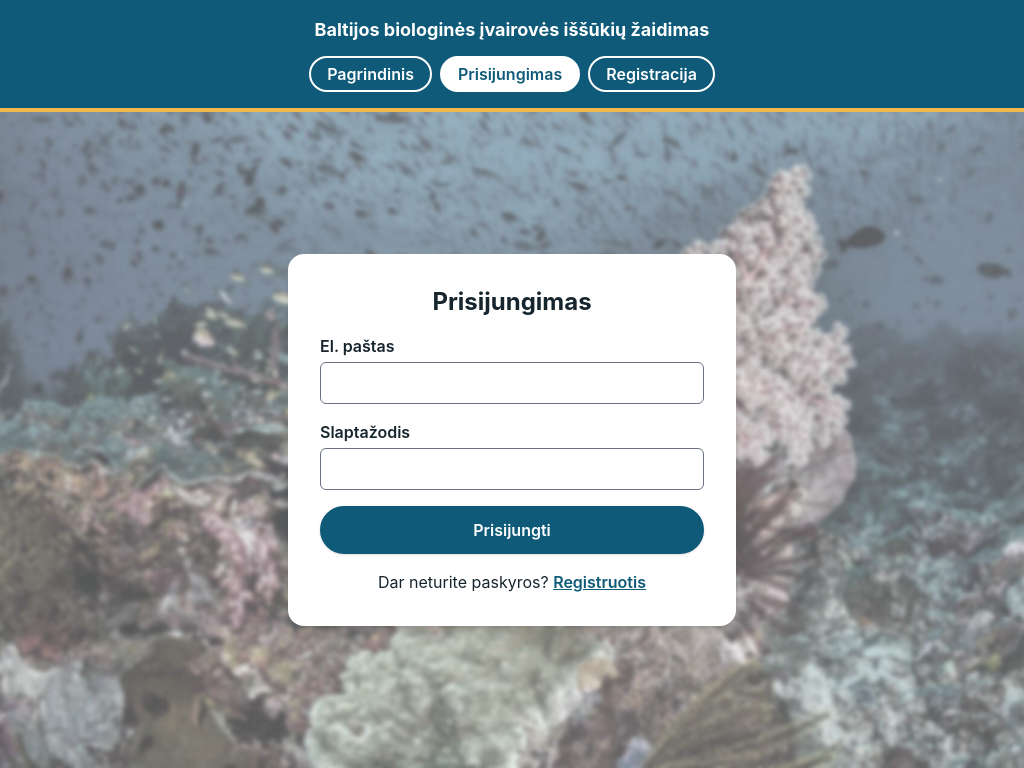
Test case: LoginPage › shows generic login failure message for server or network failure
The image size is (1024, 768).
In the field labelled "El. paštas": (512, 383) [320, 362, 704, 404], type "user@example.com"
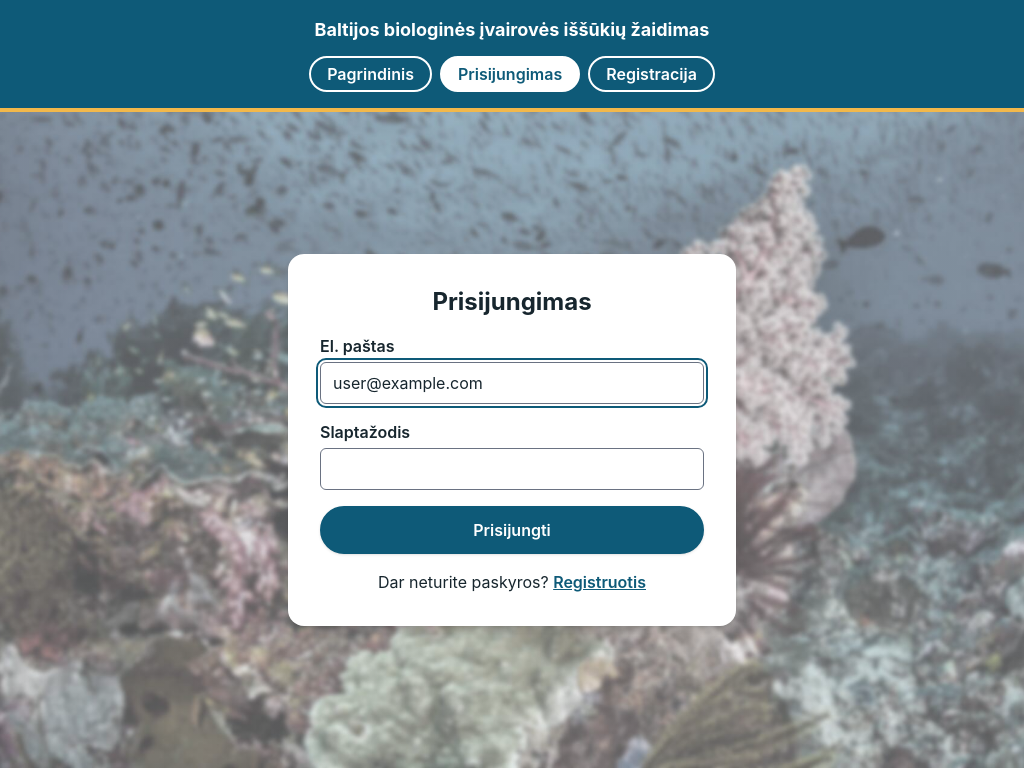
In the password field labelled "Slaptažodis": (512, 469) [320, 448, 704, 490], type "secret123"
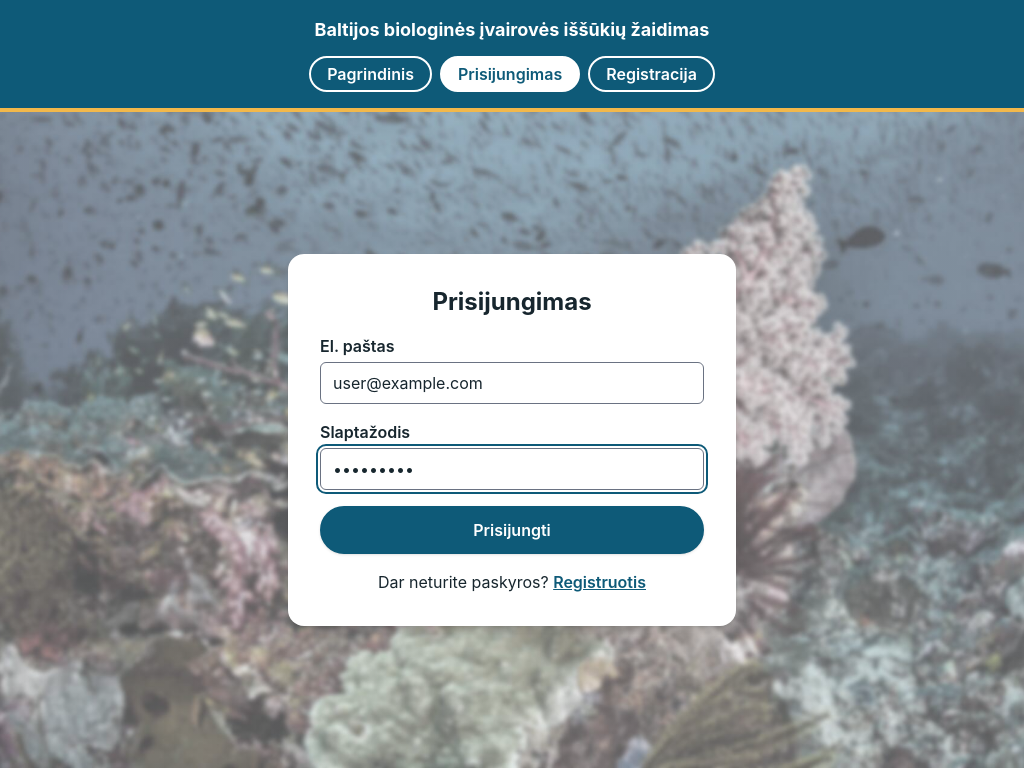
Click the button "Prisijungti": (512, 530) [320, 506, 704, 554]
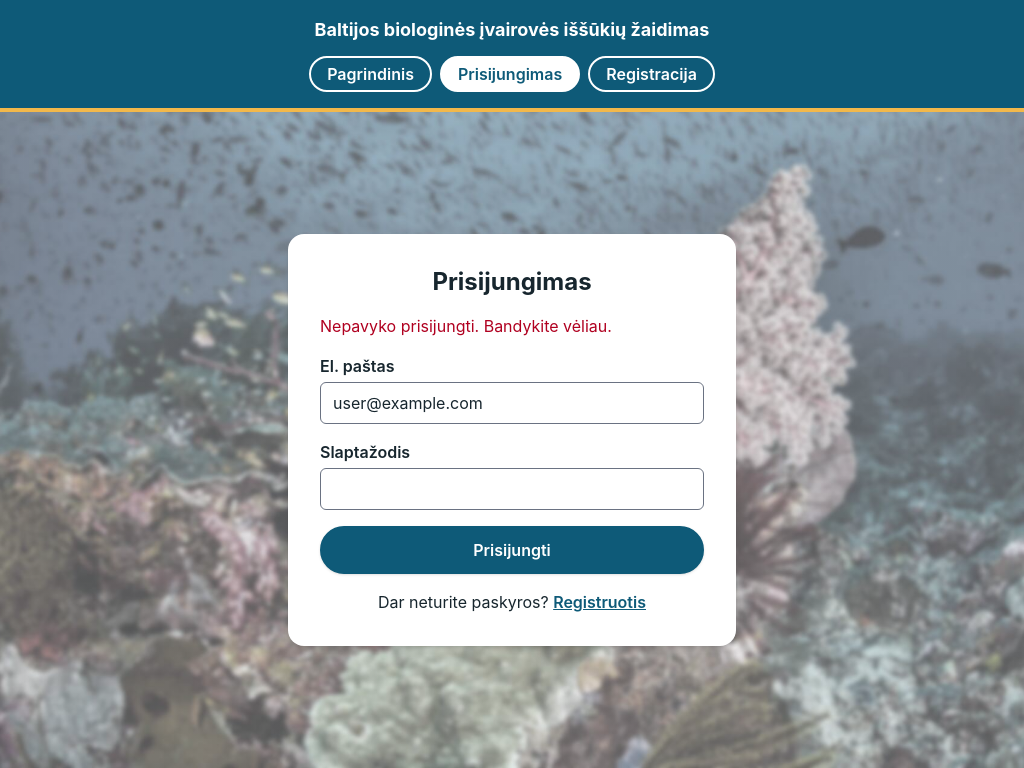
expect the text "Nepavyko prisijungti. Bandykite vėliau." is shown: met, box [320, 316, 612, 336]
